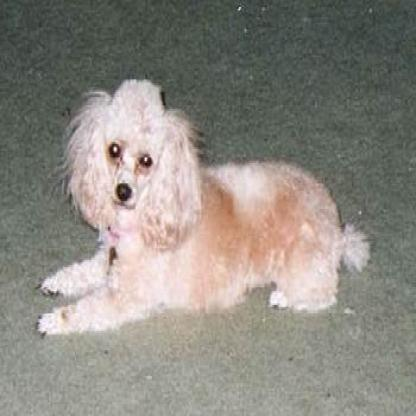toy_poodle: (34, 71, 371, 338)
